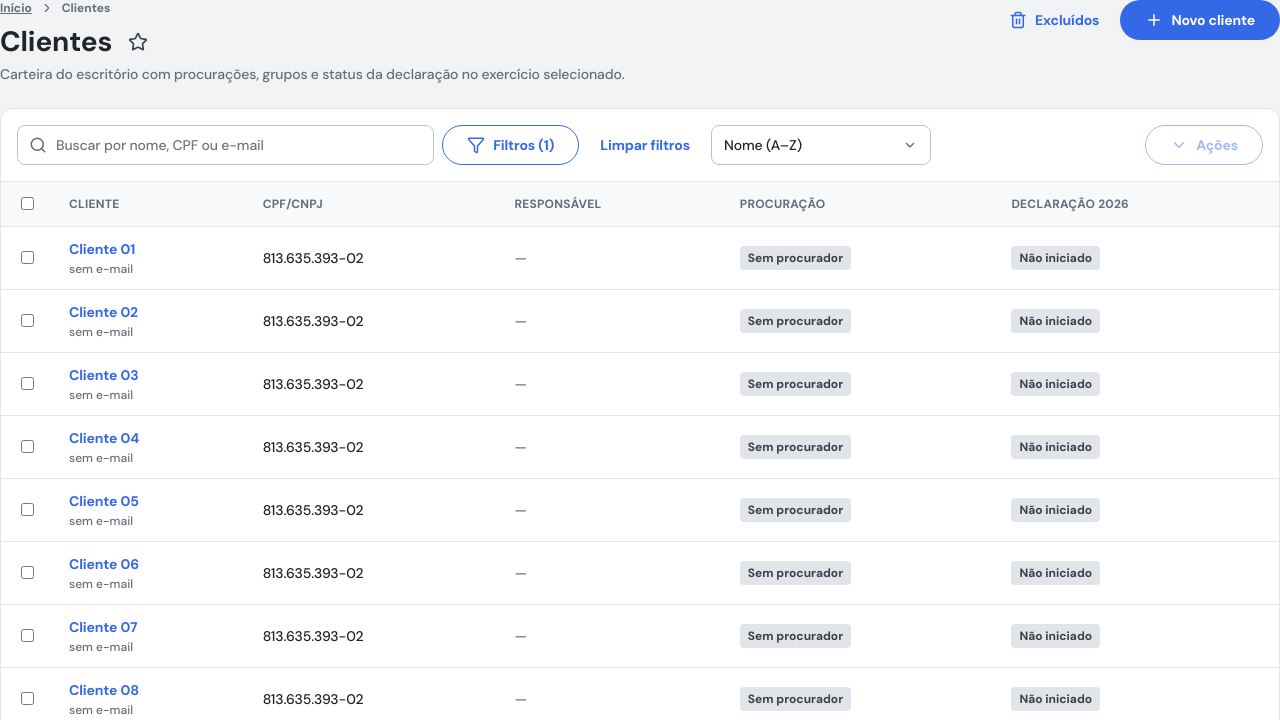
Test case: lista de clientes: erro, seleção de todos e endereço › ação em massa com todos os resultados: reúne os ids de todas as páginas com os mesmos filtros
The width and height of the screenshot is (1280, 720).
Click the checkbox named "Selecionar todos da página". click: (28, 204)
box: left=21, top=197, right=34, bottom=210
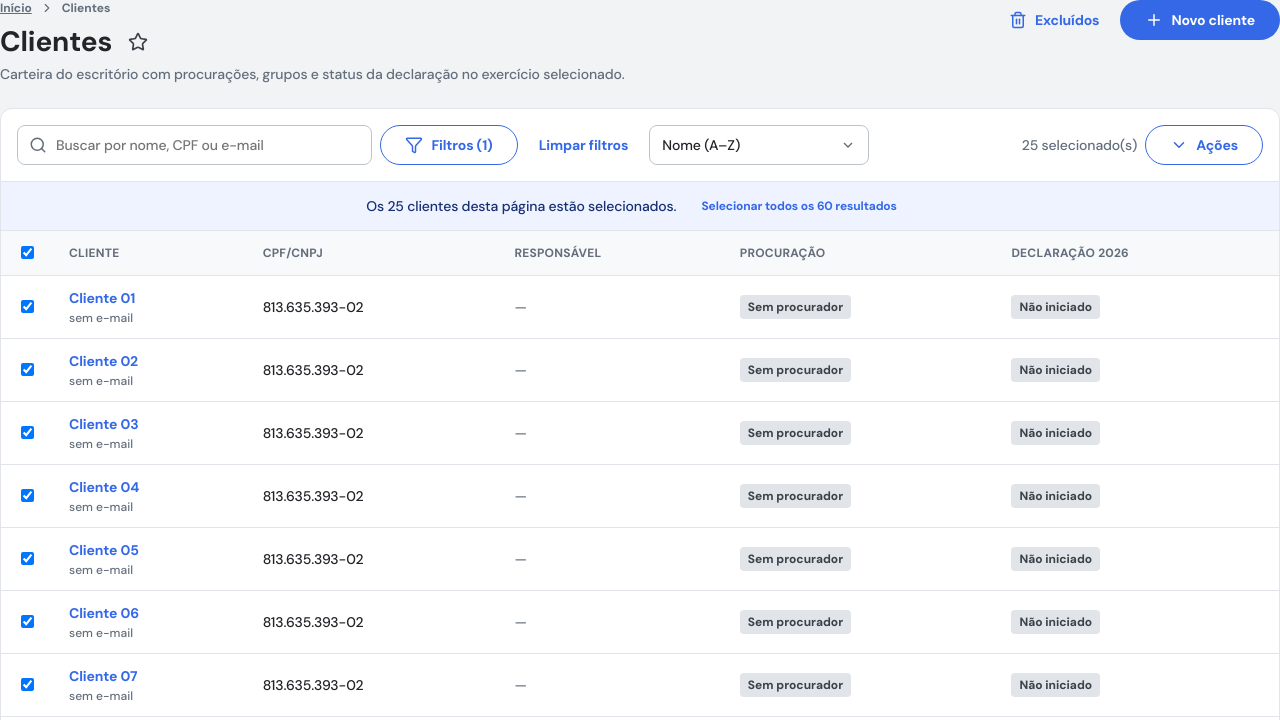
Click the button "Selecionar todos os 60 resultados". click: (799, 206)
box: left=684, top=190, right=914, bottom=222
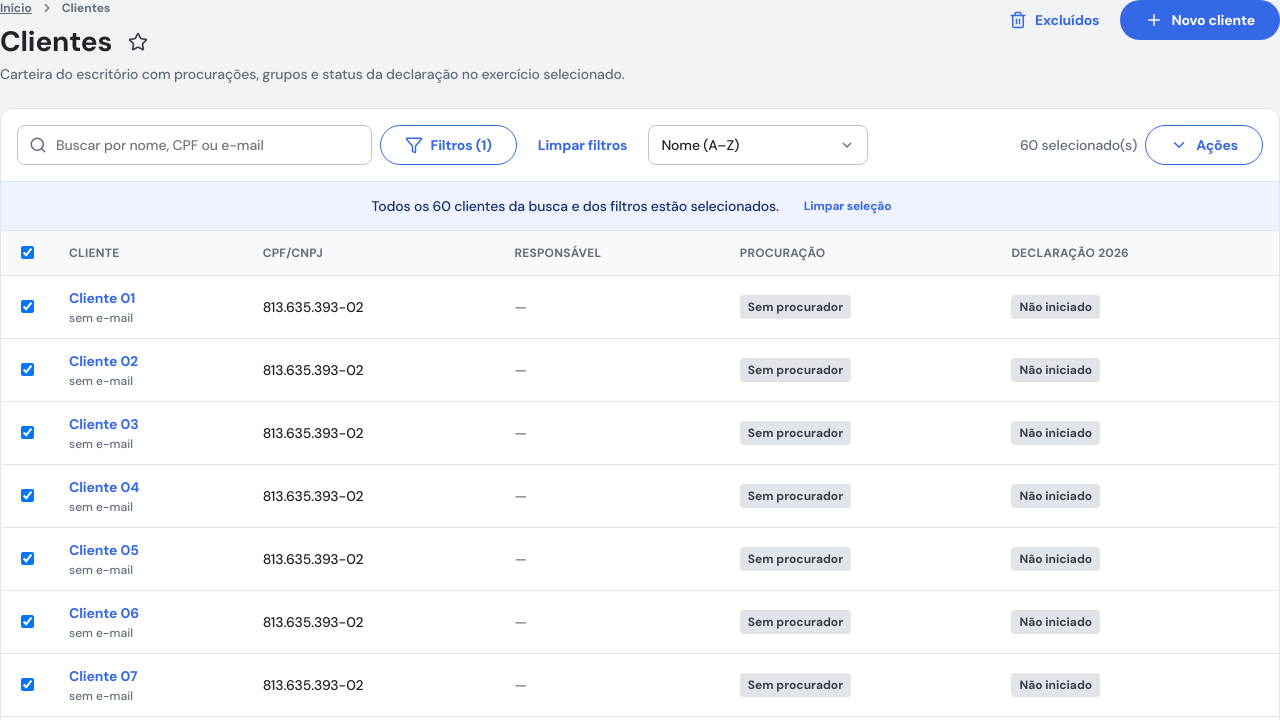
Click the button "Ações". click: (1204, 145)
box: left=1145, top=125, right=1263, bottom=165
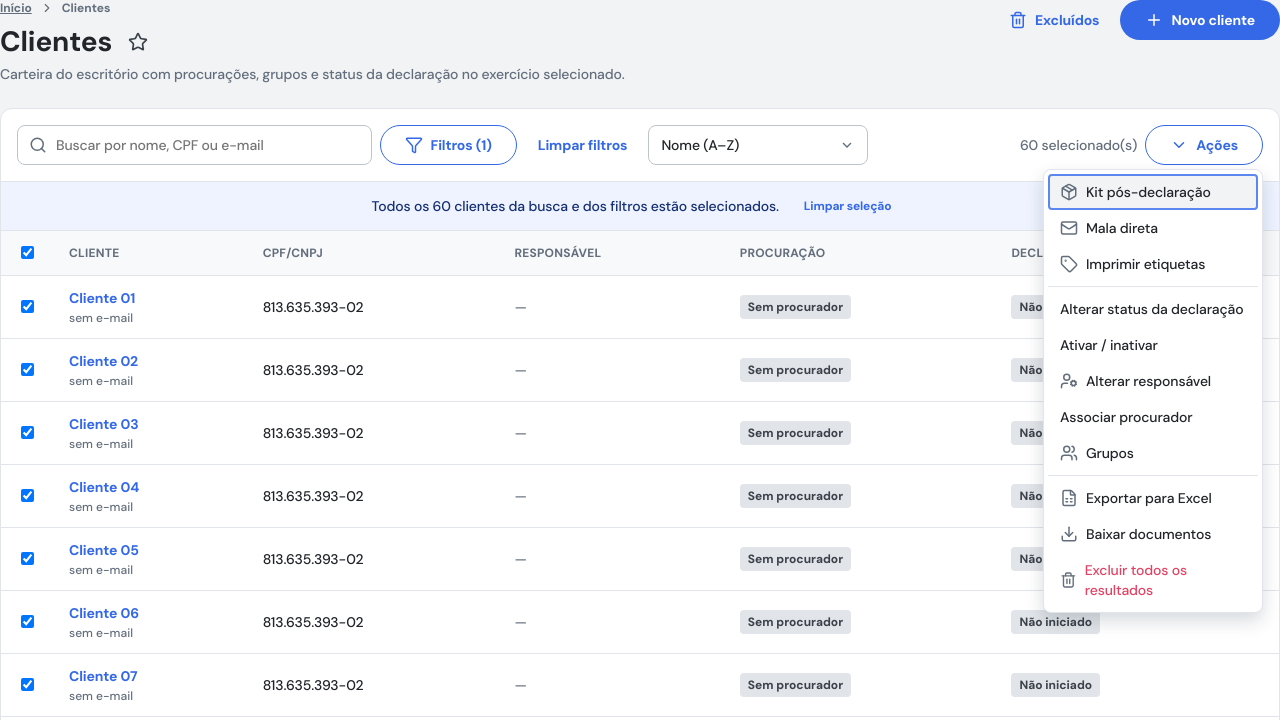
Click the menu item "Ativar / inativar". click: (1153, 345)
box: left=1048, top=327, right=1258, bottom=363
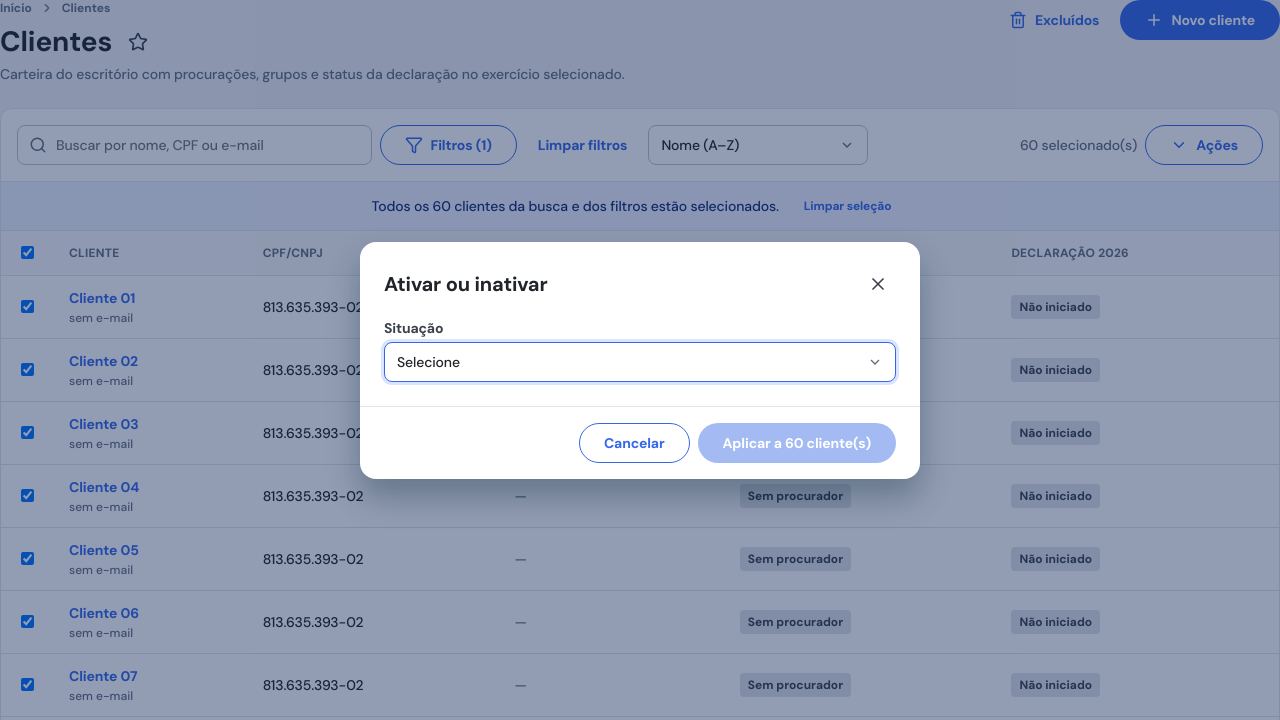
Select "Inativo" in the dropdown labelled "Situação". click: (640, 362)
box: left=384, top=342, right=896, bottom=382
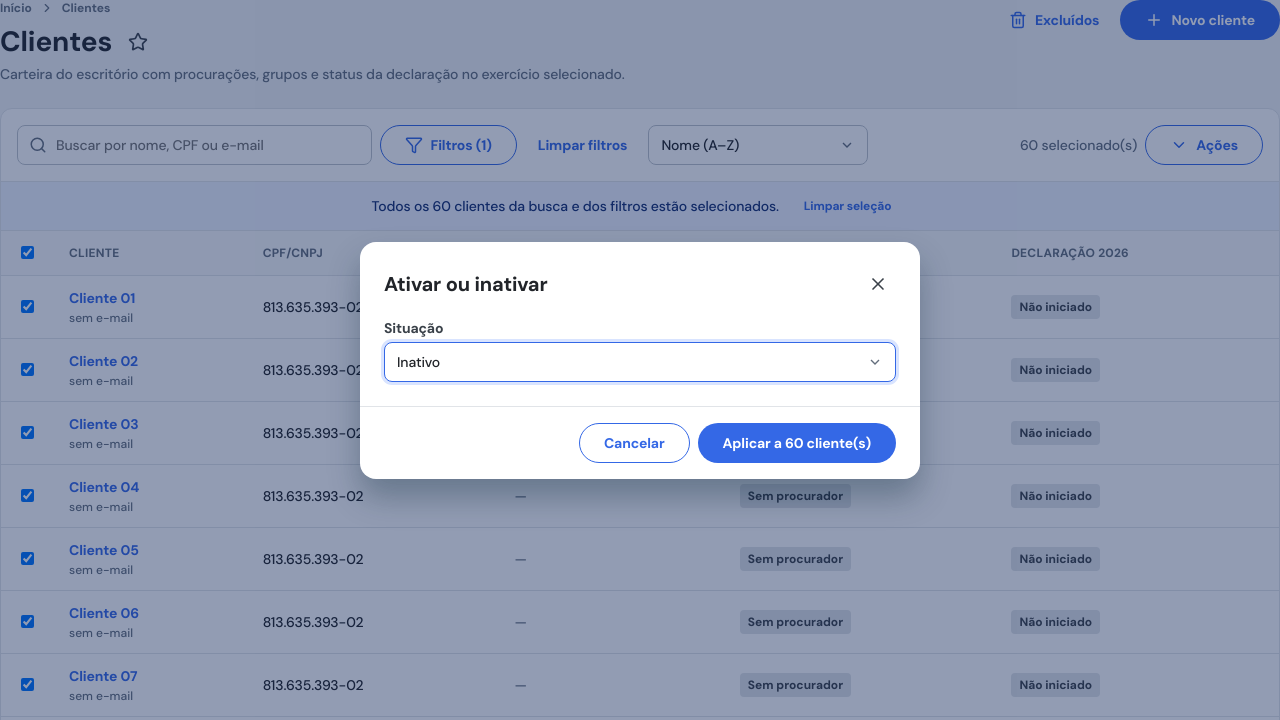
Click the button "Aplicar a 60 cliente(s)". click: (797, 442)
box: left=698, top=422, right=896, bottom=462
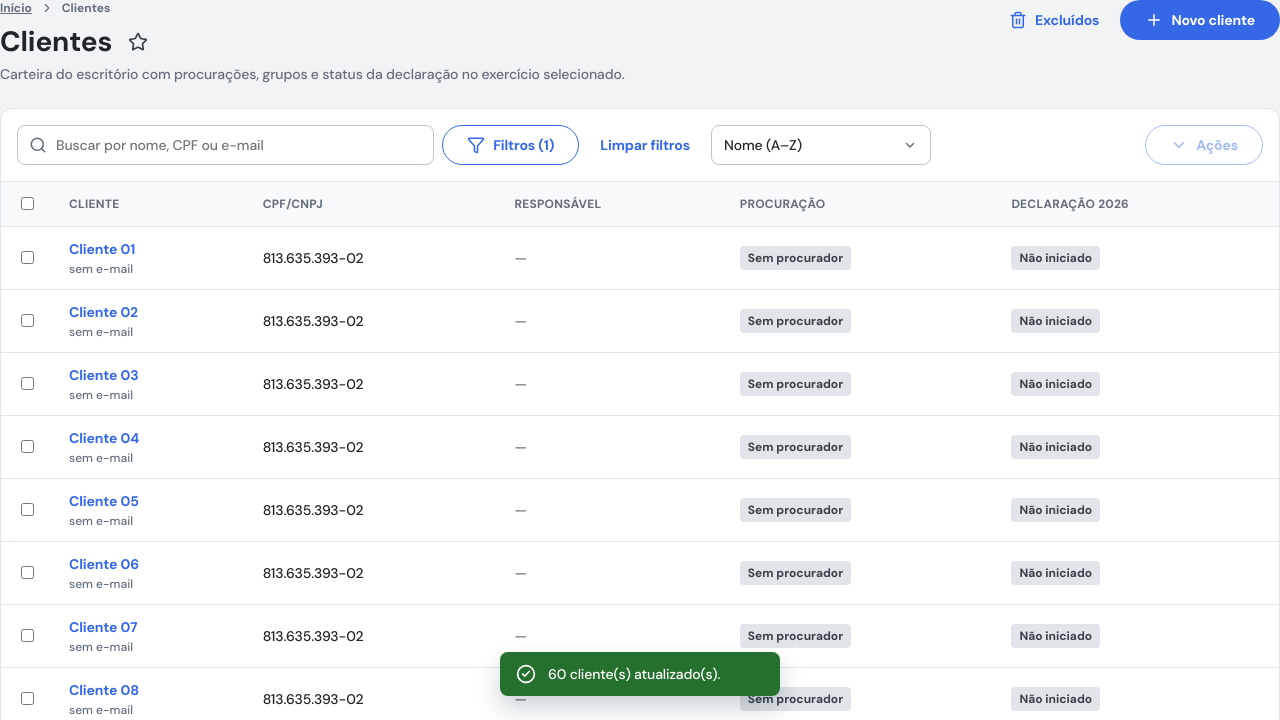
Now the text "selecionado(s)" is gone
